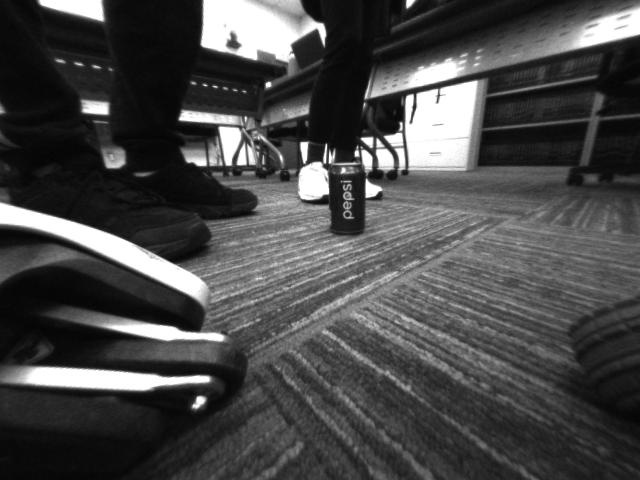can: (325, 158, 369, 239)
